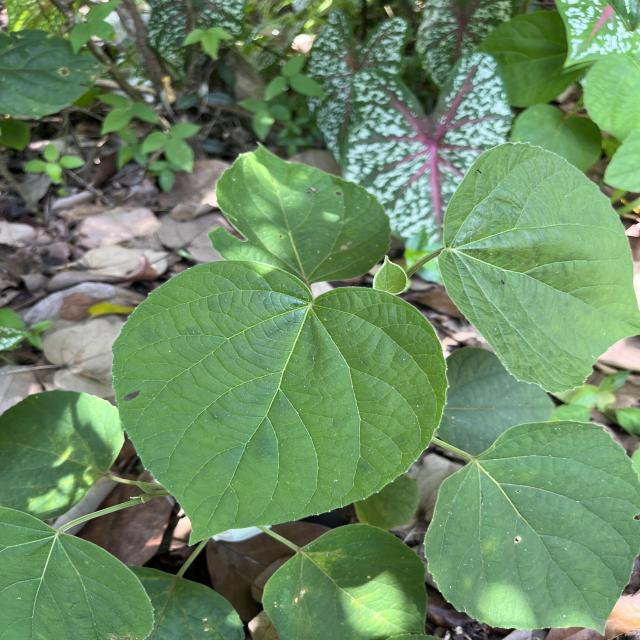Clerodendrum infortunatum: (108, 256, 454, 549), (434, 137, 640, 395), (430, 418, 640, 636), (208, 139, 397, 281), (259, 521, 429, 640)
